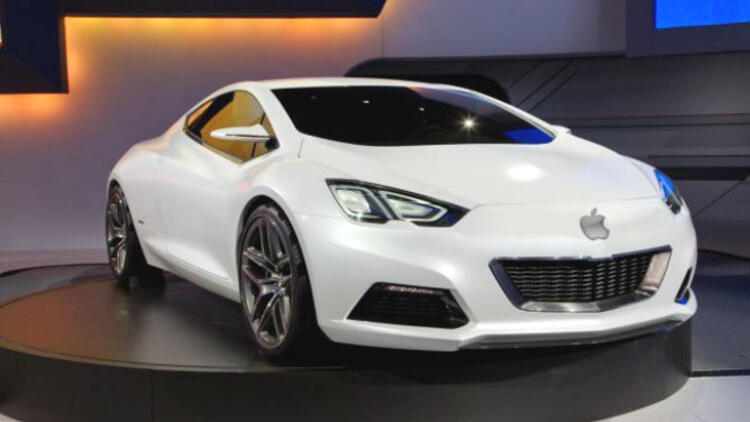ARABA: (103, 74, 702, 362)
